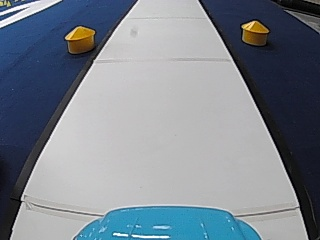granary: (63, 23, 96, 54), (238, 17, 270, 46)
